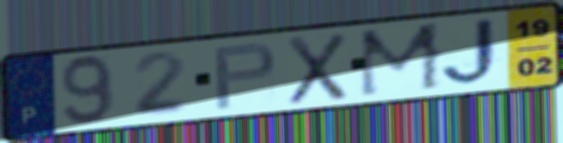2: (130, 50, 190, 118)
9: (59, 53, 119, 129)
J: (438, 14, 506, 90)
M: (357, 20, 446, 101)
P: (211, 40, 281, 113)
X: (285, 30, 350, 107)
